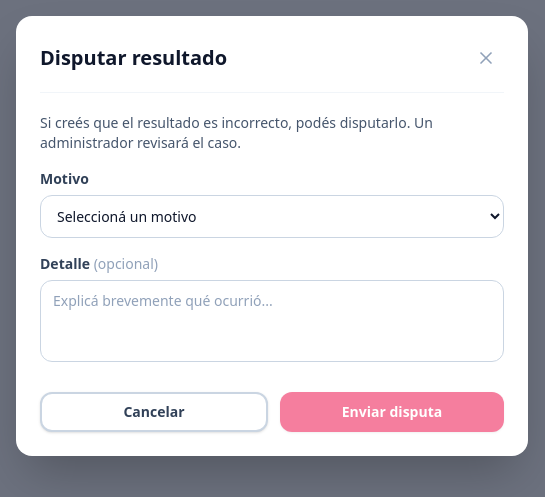
Test: DisputeModal › enables submit after selecting a reason
Select "Resultado incorrecto" in the dropdown labelled "Motivo": (272, 216) [40,195,504,238]
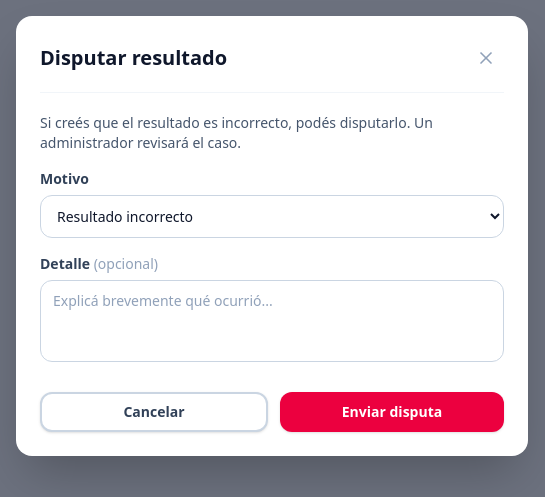
Expected: the button "Enviar disputa" is enabled, [280,392,504,432]
